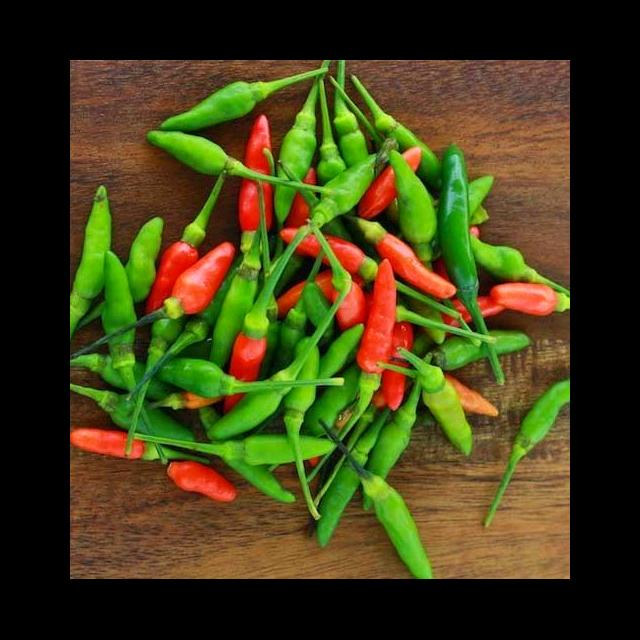chili_pepper: (160, 68, 329, 131), (439, 144, 489, 335), (362, 476, 434, 580), (70, 186, 111, 338), (278, 80, 318, 181), (147, 130, 228, 175), (229, 334, 267, 382), (244, 114, 271, 175), (239, 180, 260, 232), (275, 186, 296, 226), (490, 346, 506, 385), (262, 184, 273, 229)
